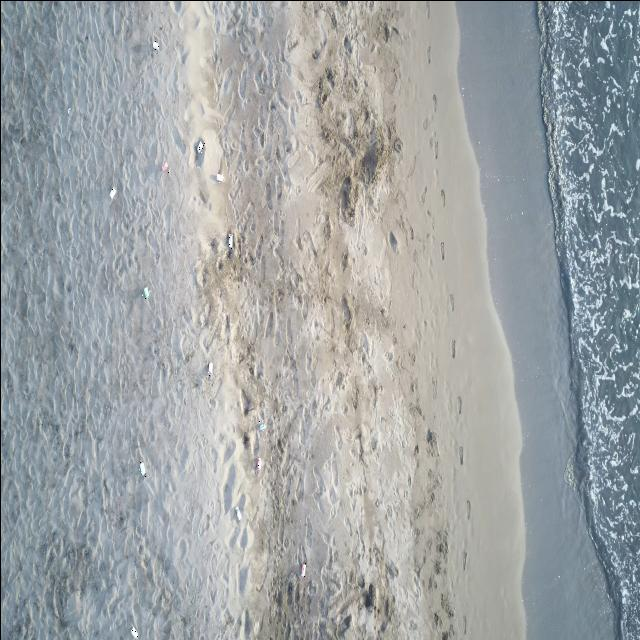Garbage: (193, 139, 203, 167), (256, 420, 266, 431), (233, 506, 240, 520), (108, 187, 116, 199), (255, 456, 261, 472), (161, 160, 168, 172), (196, 140, 203, 152), (141, 287, 148, 299), (139, 460, 144, 476), (300, 563, 306, 576), (227, 233, 232, 248), (207, 362, 212, 376), (131, 626, 138, 636), (216, 172, 223, 181), (152, 40, 158, 49), (68, 107, 71, 114)
